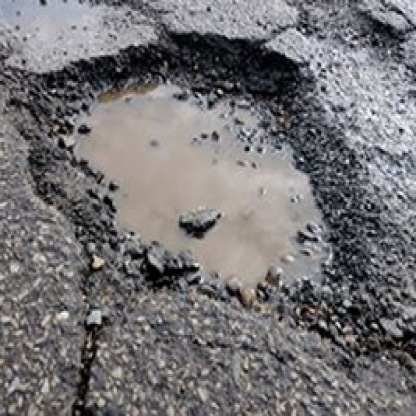pothole: (3, 21, 407, 375)
